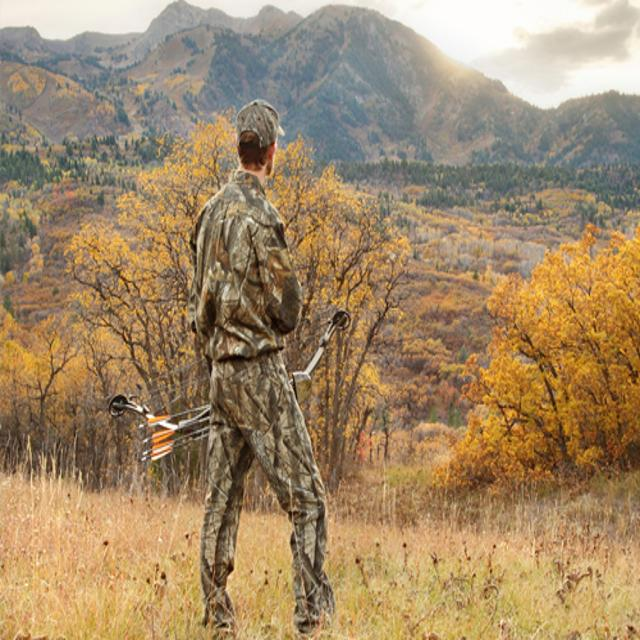poacher: (146, 76, 406, 640)
